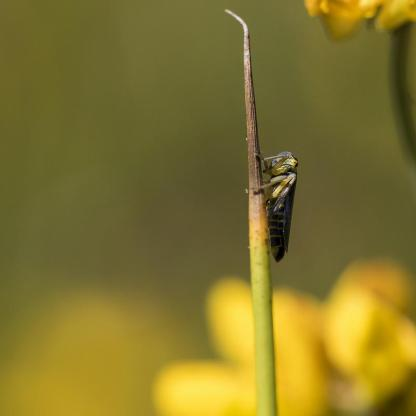Green-Leafhopper: (249, 143, 300, 265)
